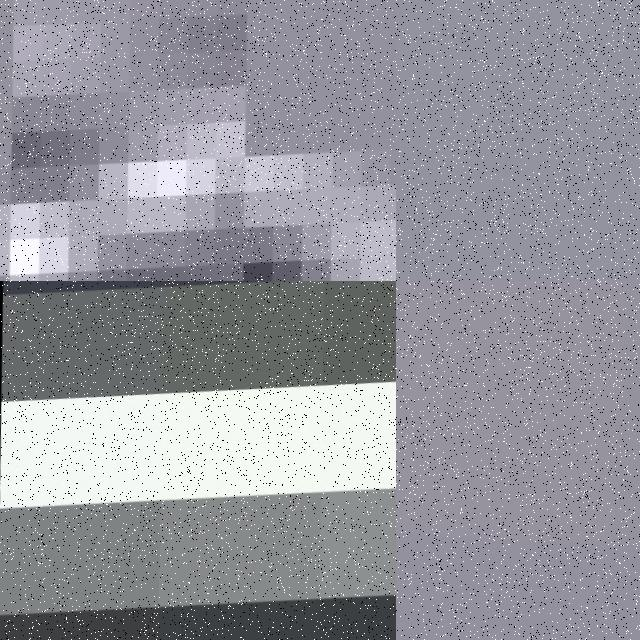drone: (0, 281, 396, 640), (0, 0, 396, 281)
